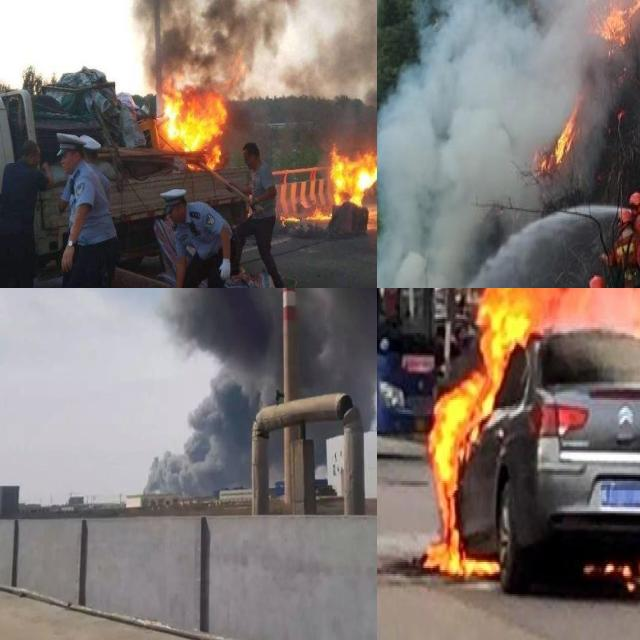fire: (423, 288, 640, 600), (154, 76, 228, 184), (324, 145, 377, 228), (532, 96, 585, 172)
smoke: (377, 0, 640, 288), (20, 288, 377, 499), (128, 0, 377, 146)
